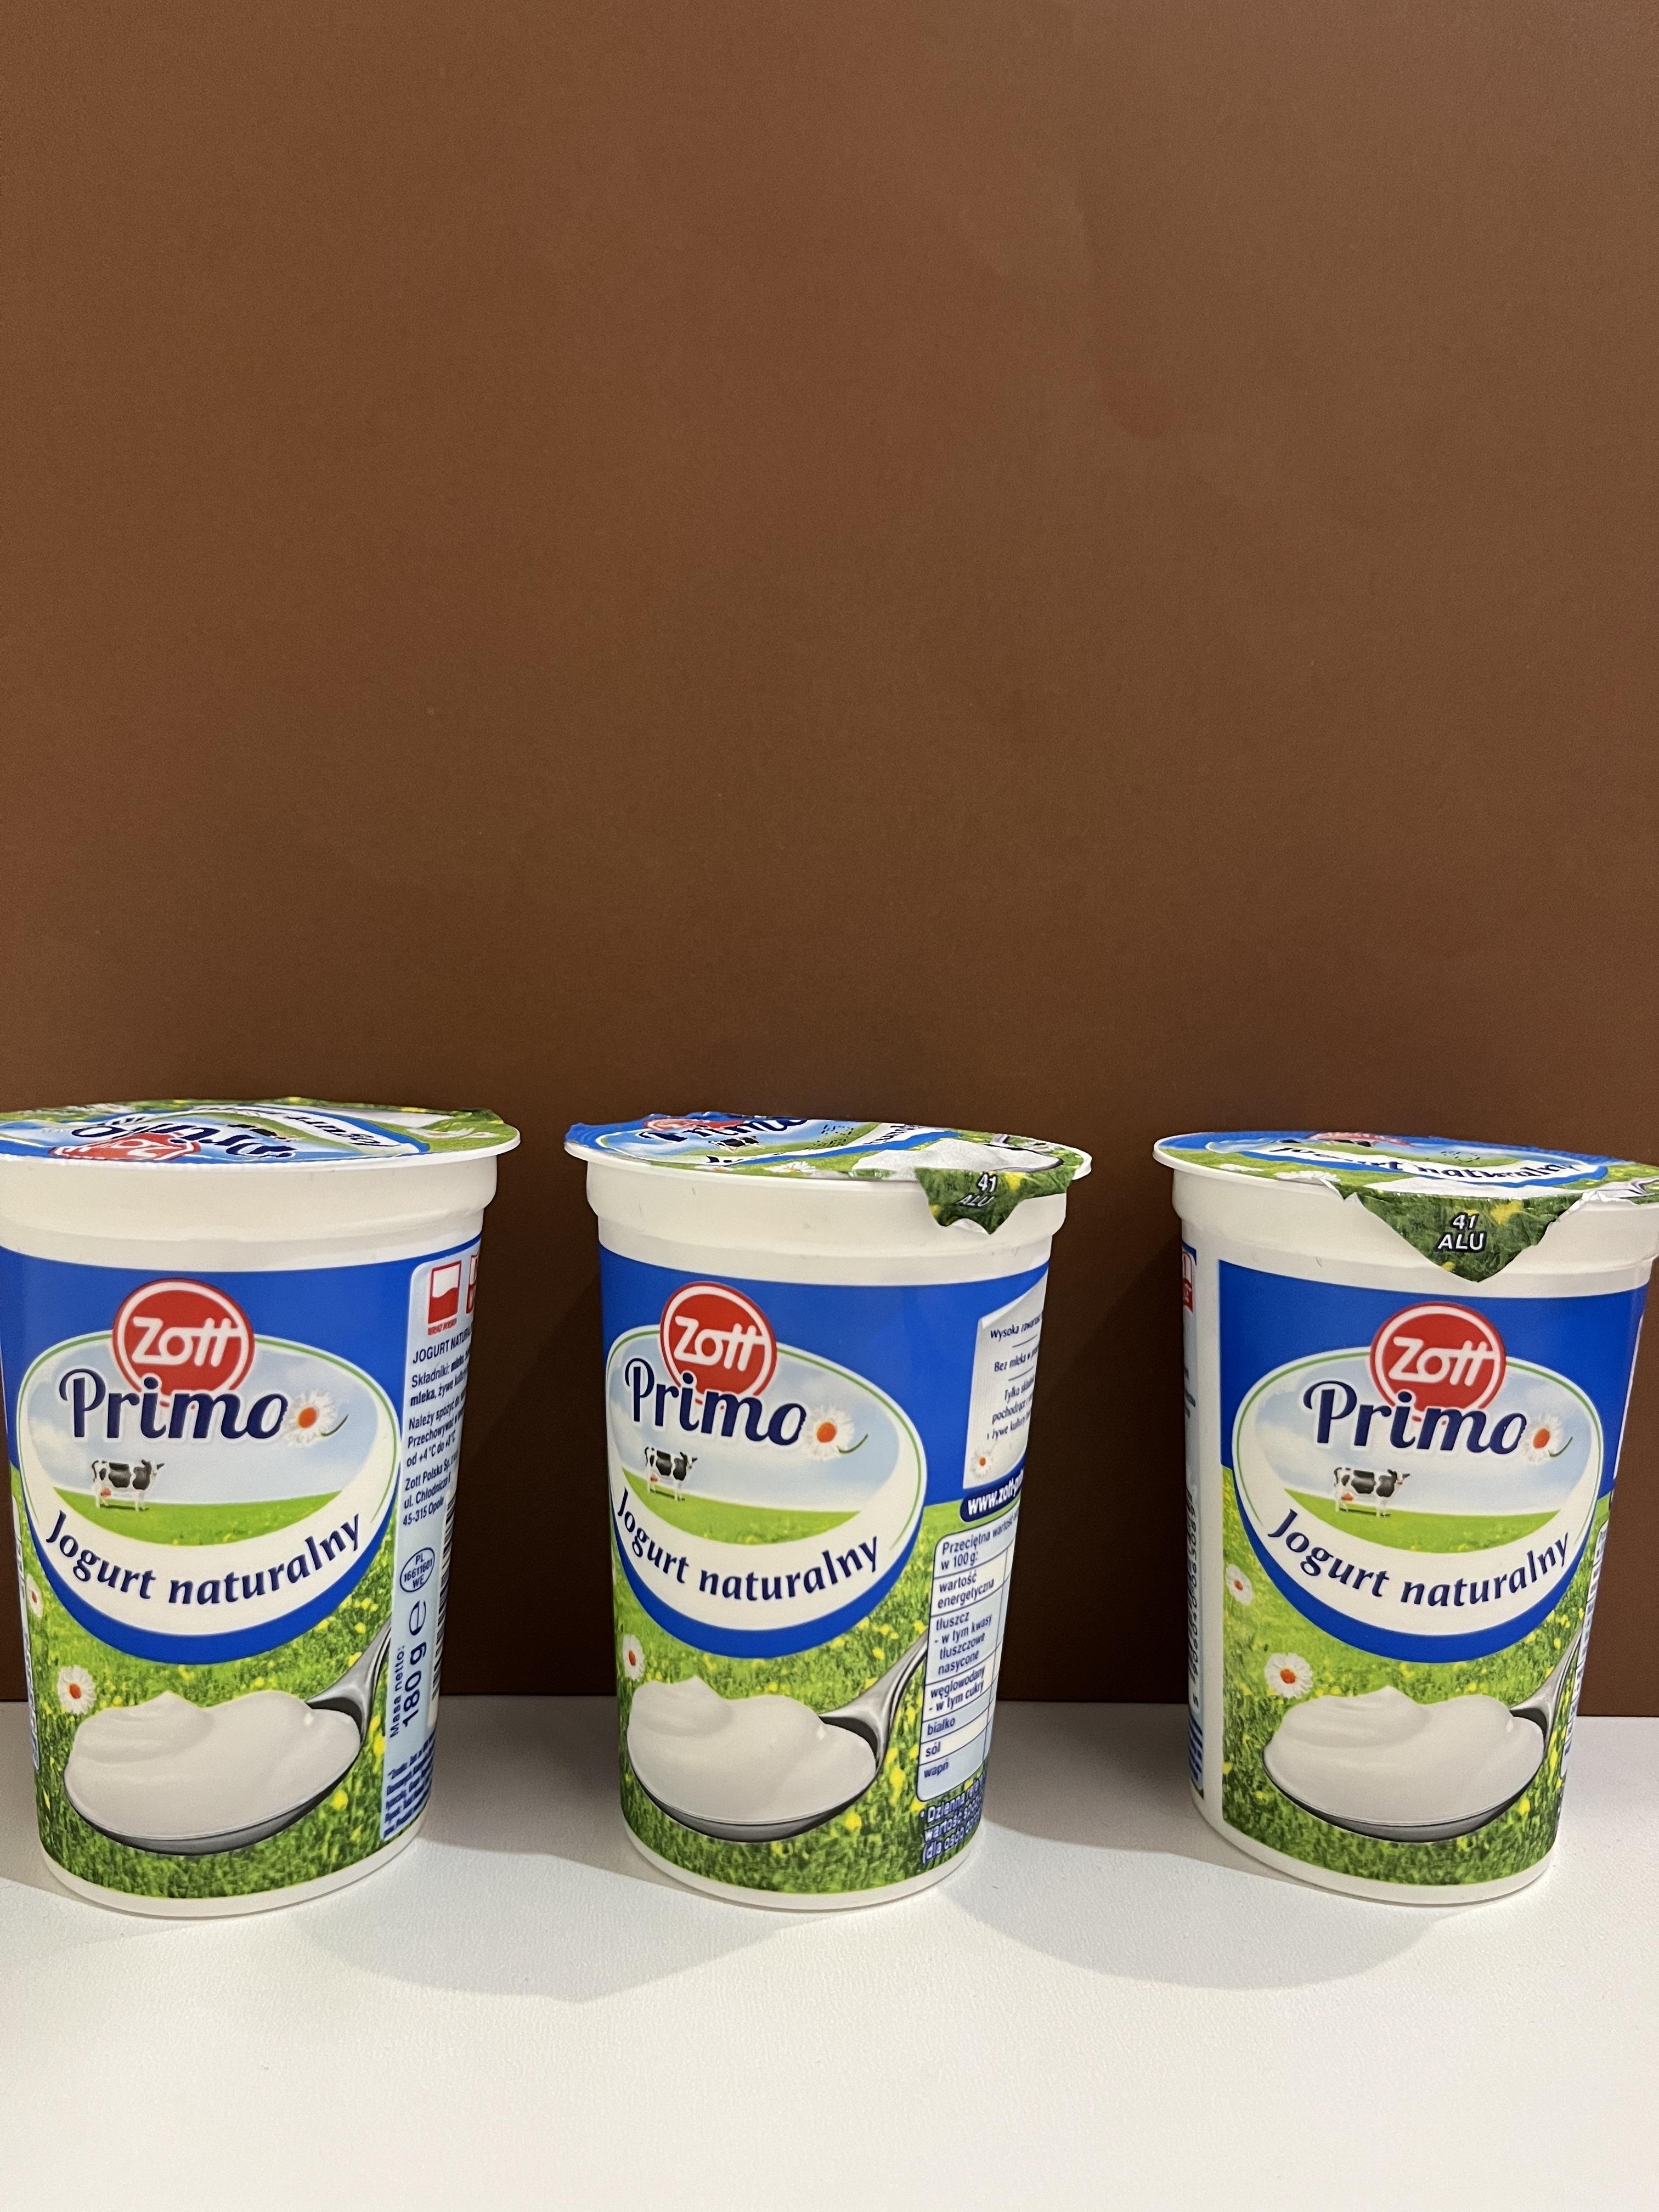Yogurt: (12, 1111, 498, 1912), (1152, 1116, 1638, 1905), (582, 1116, 1042, 1907)
